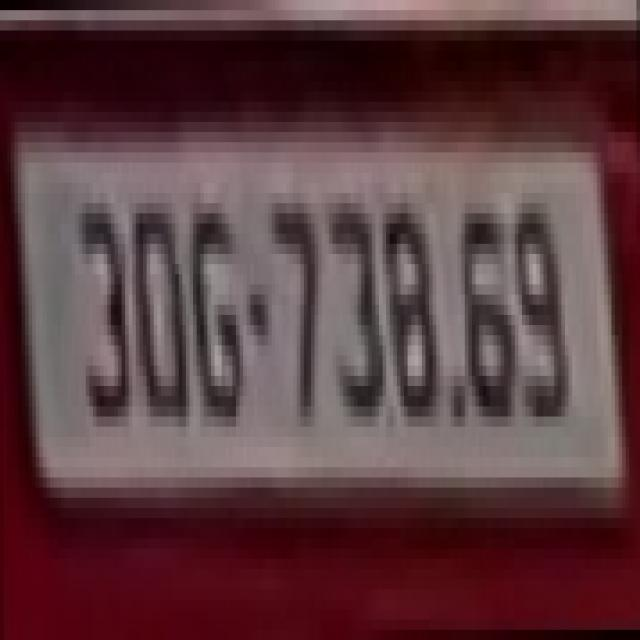0: (136, 193, 189, 427)
3: (75, 193, 132, 427), (329, 193, 383, 417)
6: (461, 203, 515, 427)
7: (272, 193, 318, 427)
8: (386, 203, 436, 417)
9: (515, 193, 568, 417)
G: (193, 193, 243, 427)
